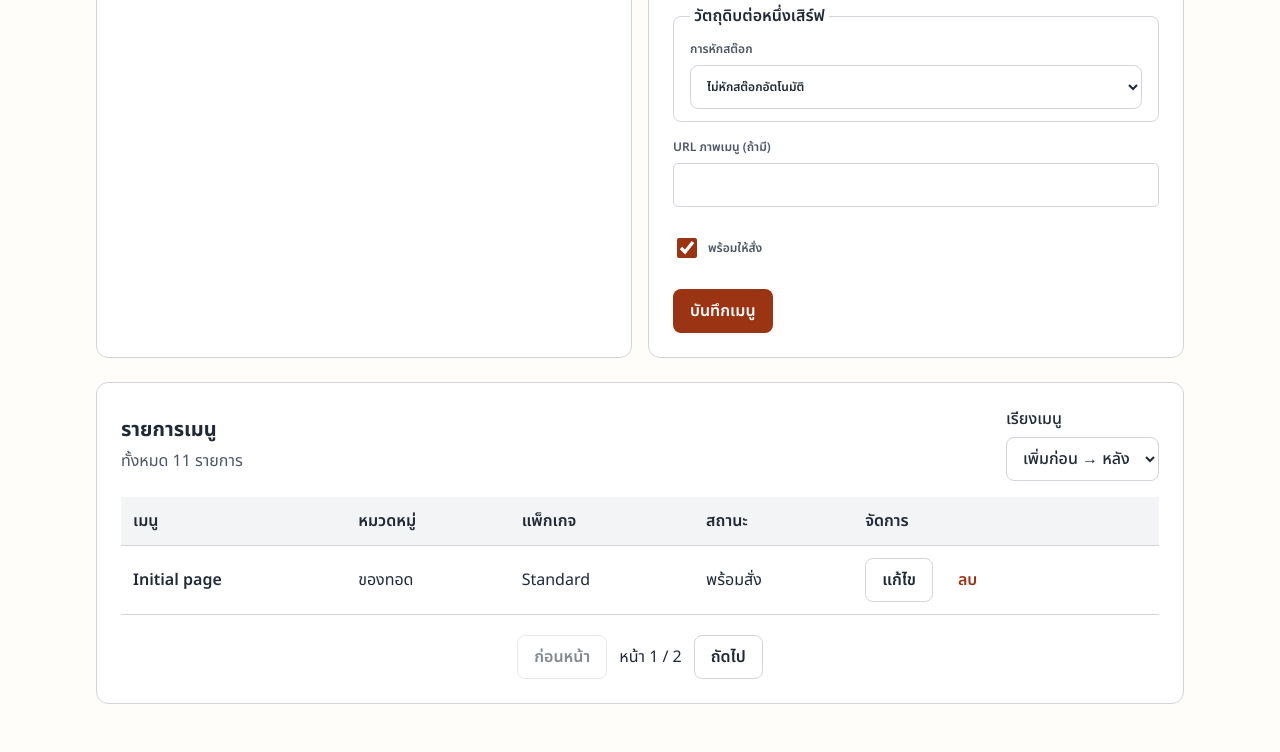
Scenario: keeps the latest page when an earlier page request completes afterwards
(page scrolled)
Expected: the text "Initial page" is shown, [133, 568, 222, 592]
Click the button "ถัดไป" at (728, 657), box [694, 635, 763, 679]
(page scrolled)
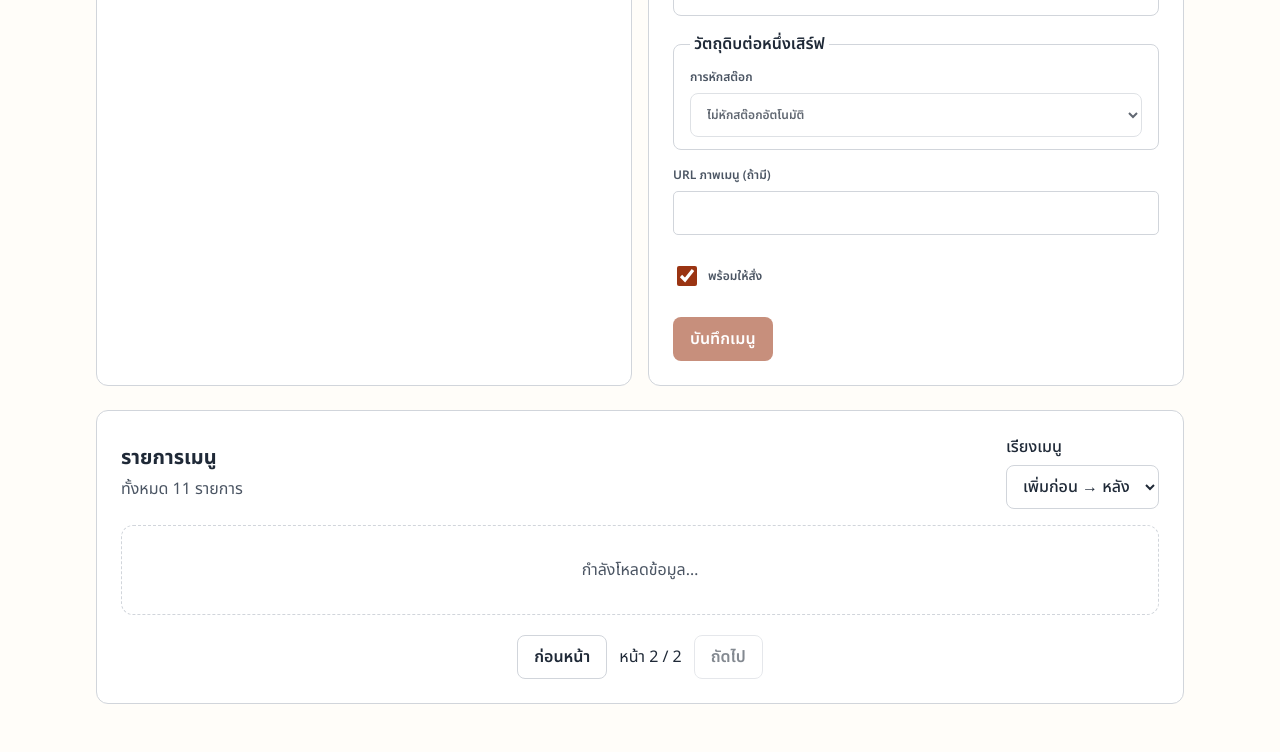
Click the button "ก่อนหน้า" at (562, 657), box [517, 635, 607, 679]
(page scrolled)
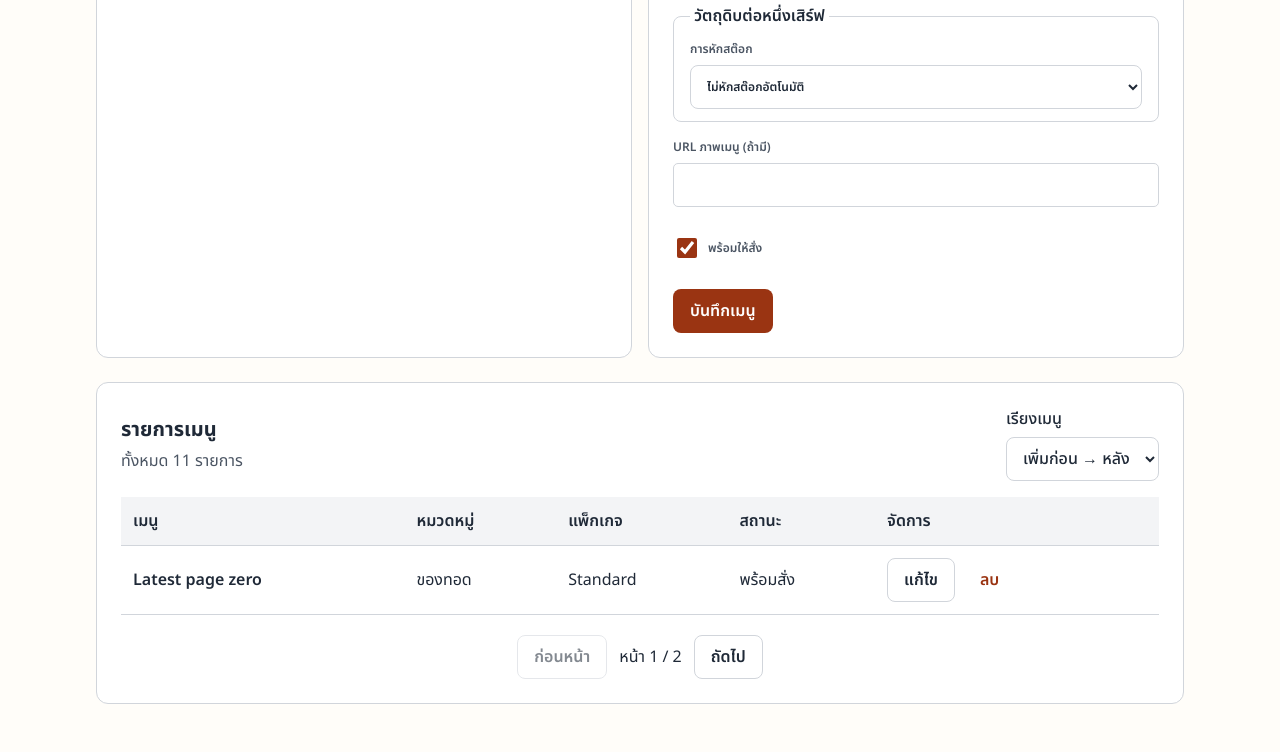
Expected: the text "Latest page zero" is shown, [133, 568, 262, 592]
Expected: the text "หน้า 1 / 2" is shown, [619, 645, 682, 669]
